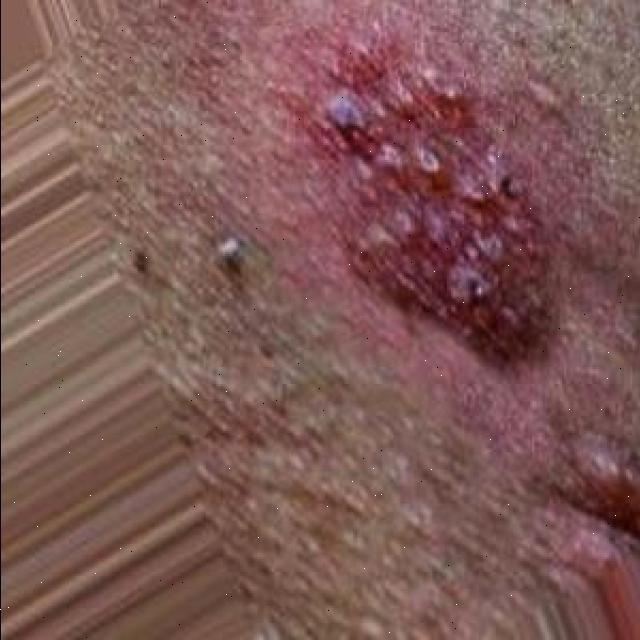Shingles: (314, 33, 546, 366)
